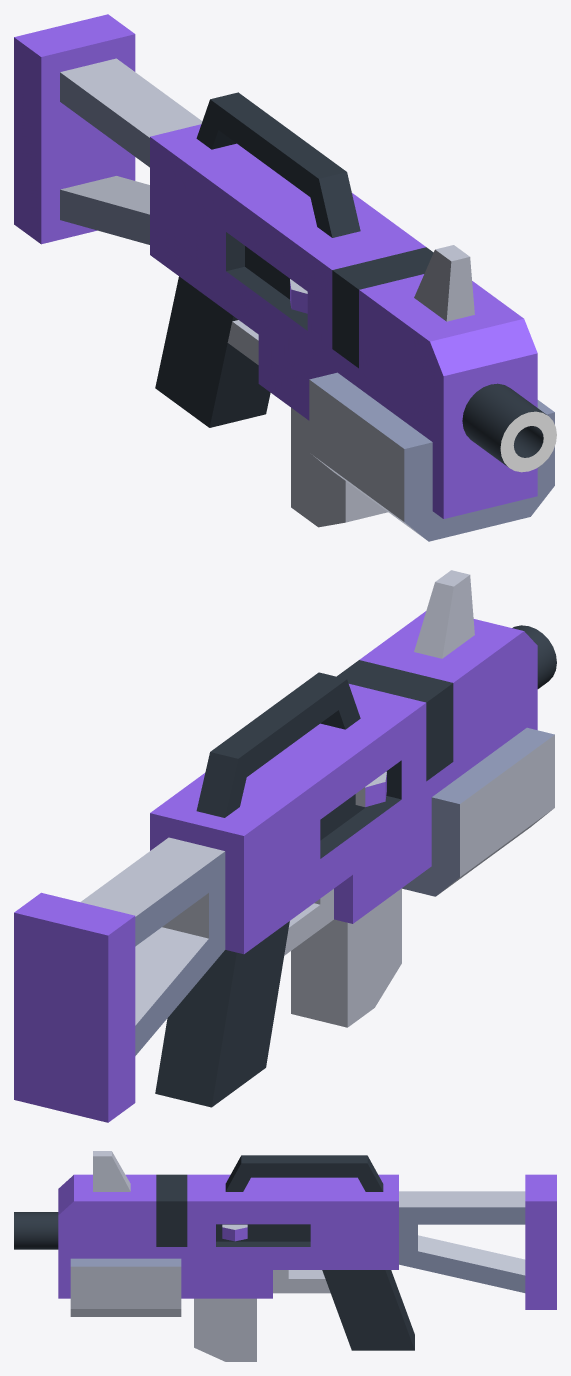
Rendered from blasterD.glb.
3 renders of one model, top to bottom at view 1: azimuth 30°, elevation 25°; view 2: azimuth 150°, elevation 25°; view 3: azimuth 270°, elevation 25°, orthographic. The views are drawn at different scales.
Parts seen in each view (by area): view 1: blasterD; view 2: blasterD; view 3: blasterD.
Part boxes in pixels (box(x1,y1,x2,y2)): blasterD: box(14, 14, 556, 541); blasterD: box(14, 570, 556, 1122); blasterD: box(14, 1151, 556, 1361).
Size of the model in its own units: 0.16 by 0.35 by 0.86.
